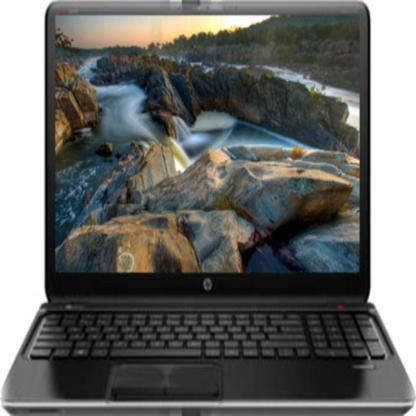board: (2, 6, 410, 416)
